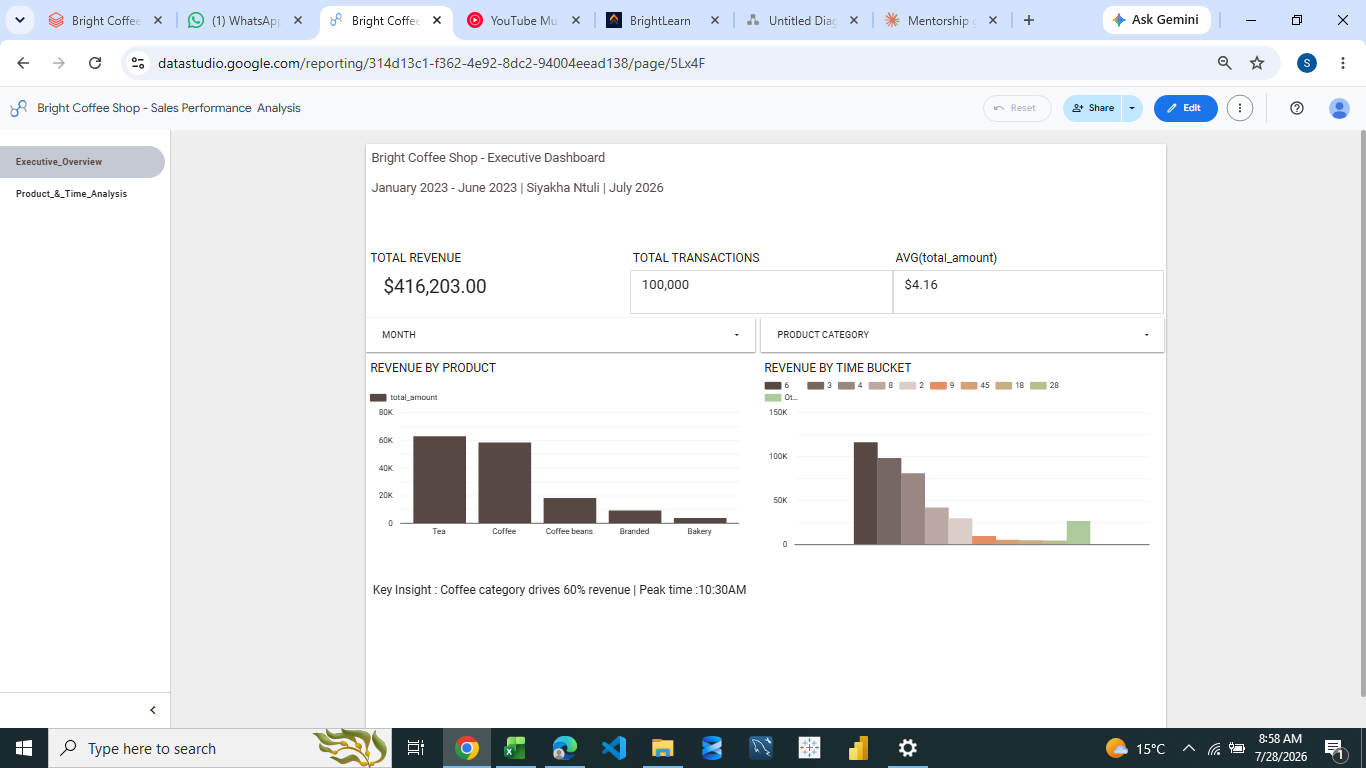

The dashboard page shown, as its layout file describes it:
{"tool":"powerbi","page":{"name":"Executive_Overview","canvas":[1900,1200],"ordinal":0},"visuals":[{"type":"textbox","box":[10.1,0,1269.9,107.5],"z":0},{"type":"cardVisual","fields":{"Data":["coffee_sales_cleaned.Total_Revenue"]},"box":[11.3,194.5,321.2,149.3],"z":1},{"type":"cardVisual","fields":{"Data":["coffee_sales_cleaned.Total_Transactions"]},"box":[332.5,201.3,321.2,149.3],"z":2},{"type":"cardVisual","fields":{"Data":["coffee_sales_cleaned.Avg_Transaction_Value","coffee_sales_cleaned.Avg_Transaction_Value"]},"box":[653.7,194.5,321.2,149.3],"z":3},{"type":"slicer","fields":{"Values":["coffee_sales_cleaned.Month_Name"]},"box":[0,343.8,321.2,149.3],"z":4},{"type":"slicer","fields":{"Values":["coffee_sales_cleaned.product_category"]},"box":[332.5,343.8,321.2,149.3],"z":5},{"type":"clusteredColumnChart","title":"Revenue by product_category","fields":{"Category":["coffee_sales_cleaned.product_category"],"Y":["coffee_sales_cleaned.Total_Revenue"]},"box":[0,600,794,410],"z":6},{"type":"lineChart","title":"Revenue by Month_Name","fields":{"Category":["coffee_sales_cleaned.Month_Name"],"Y":["coffee_sales_cleaned.Total_Revenue"]},"box":[794,600,842,410],"z":7}]}

Visuals, with their boxes on the page's 1900x1200 design canvas (x1, y1, x2, y2). These are canvas units, not pixel positions in the 1366x768 screenshot, which may show the page scaled, cropped or inside an application window:
textbox: [10, 0, 1280, 108]
cardVisual - coffee_sales_cleaned.Total_Revenue: [11, 194, 332, 344]
cardVisual - coffee_sales_cleaned.Total_Transactions: [332, 201, 654, 351]
cardVisual - coffee_sales_cleaned.Avg_Transaction_Value x coffee_sales_cleaned.Avg_Transaction_Value: [654, 194, 975, 344]
slicer - coffee_sales_cleaned.Month_Name: [0, 344, 321, 493]
slicer - coffee_sales_cleaned.product_category: [332, 344, 654, 493]
"Revenue by product_category" clusteredColumnChart: [0, 600, 794, 1010]
"Revenue by Month_Name" lineChart: [794, 600, 1636, 1010]
